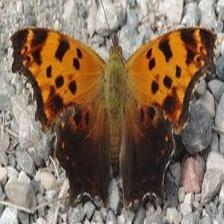butterfly: (11, 27, 216, 204)
